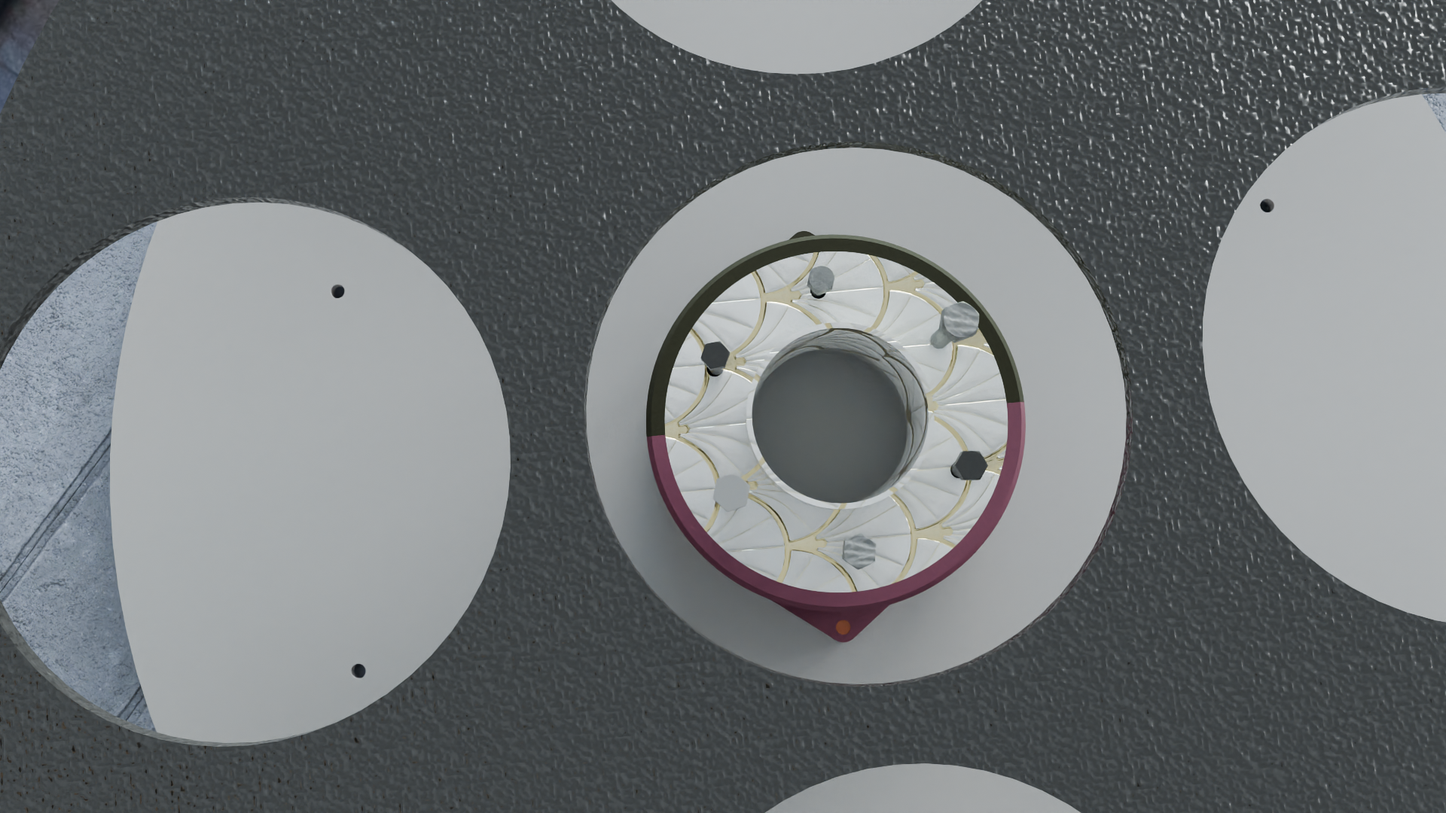bolt: (941, 301, 979, 340), (712, 473, 750, 511), (844, 534, 877, 570), (955, 451, 988, 480), (700, 341, 730, 369), (807, 265, 835, 293)
